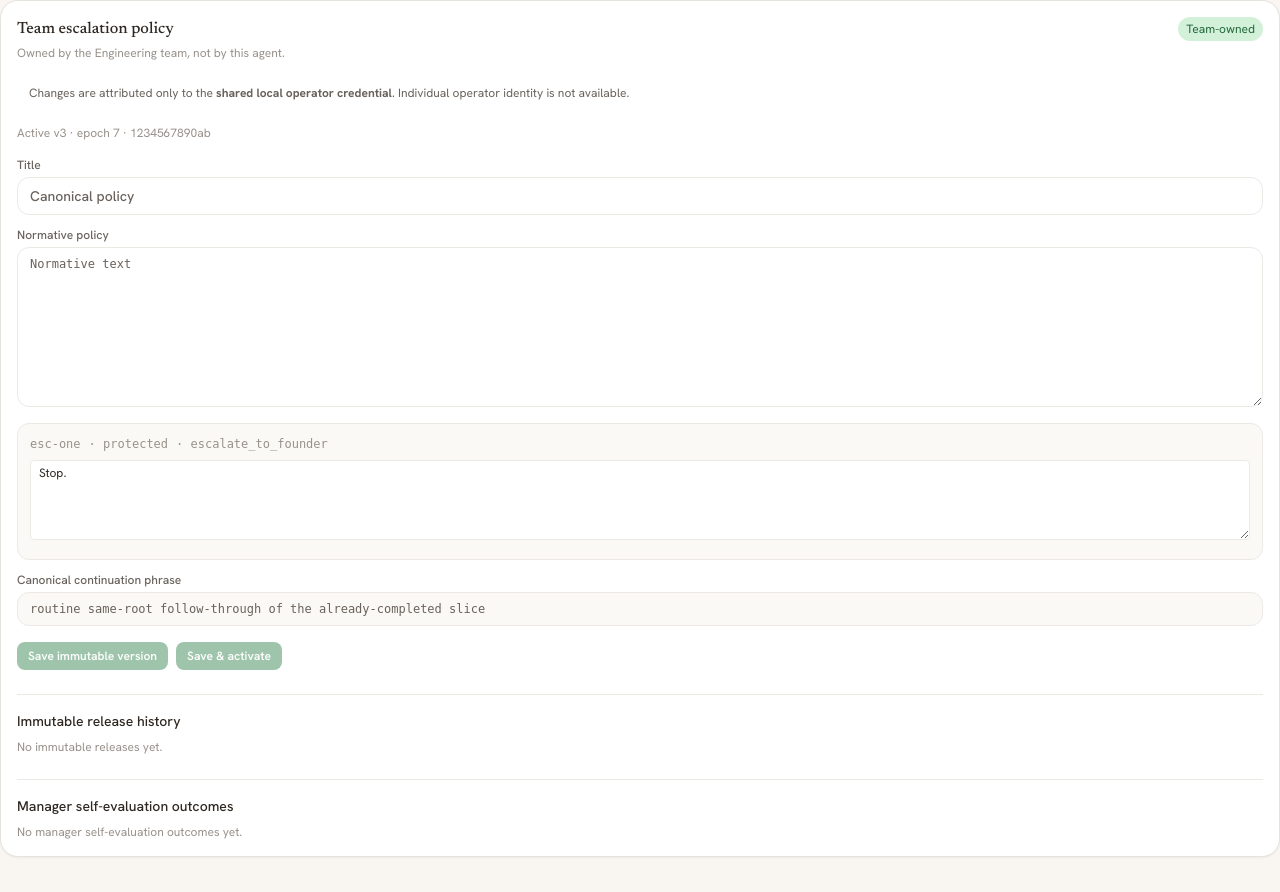
Test: TeamEscalationPolicyCard › retains the durable inactive receipt when post-create activation fails
Replace the text in the field labelled "Title" with "Edited policy" at (640, 196), box [17, 177, 1263, 215]
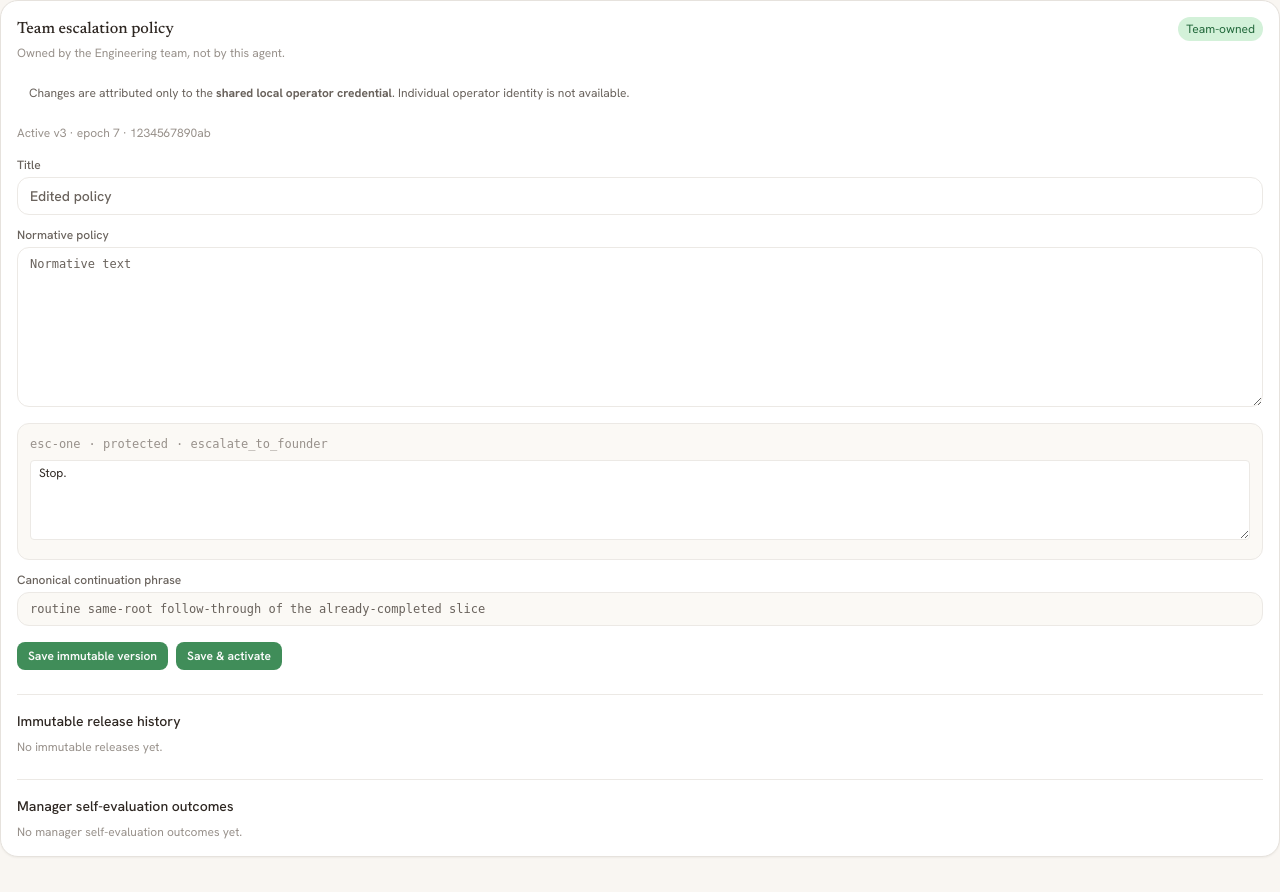
Click the button "Save & activate" at (229, 656), box [176, 642, 282, 670]
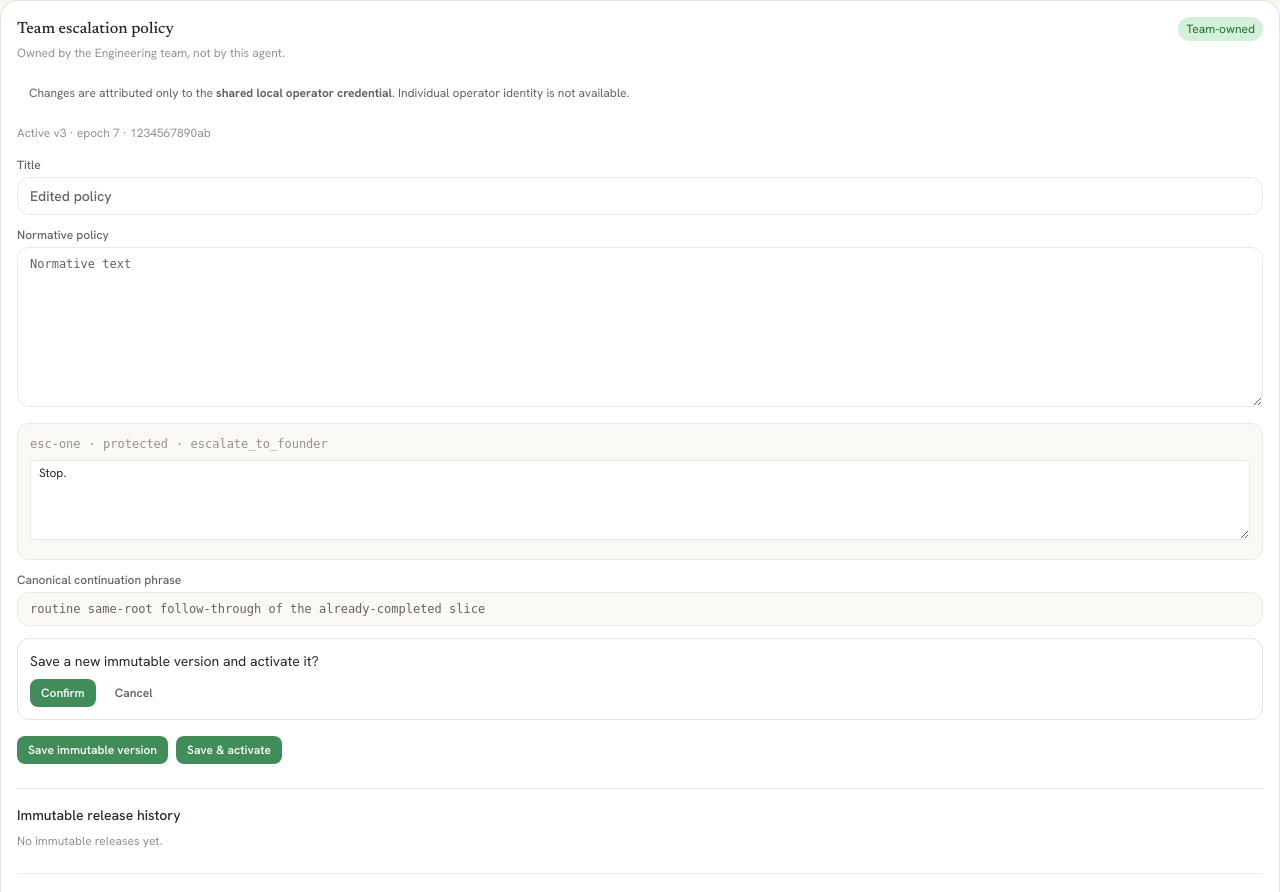
Click the button "Confirm" at (63, 693), box [30, 679, 96, 707]
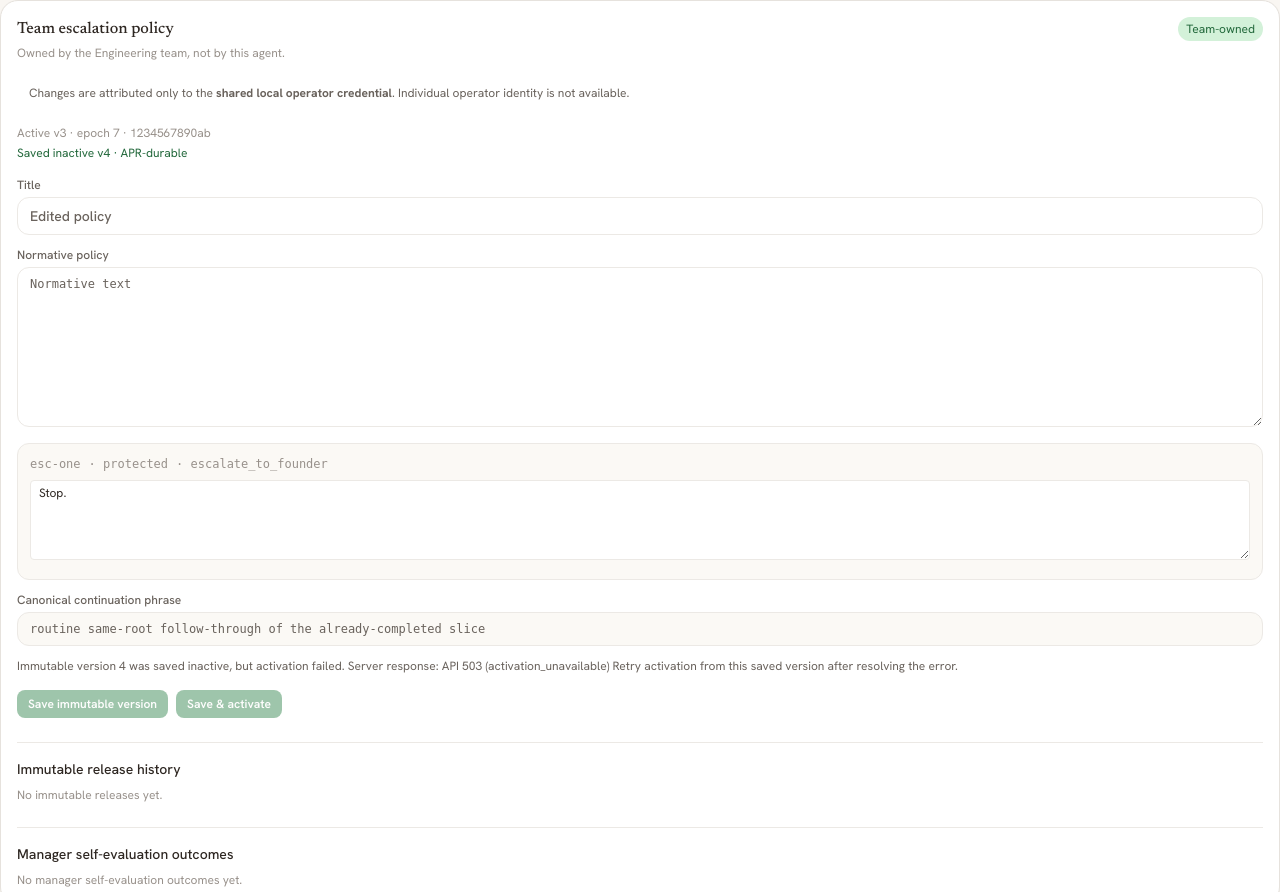
Check: the text "Saved inactive v4 · APR-durable" is shown, box [17, 145, 188, 161]
Check: the message shows "was saved inactive, but activation failed", box [17, 658, 958, 674]
Check: the message shows "Retry activation from this saved version", box [17, 658, 958, 674]
